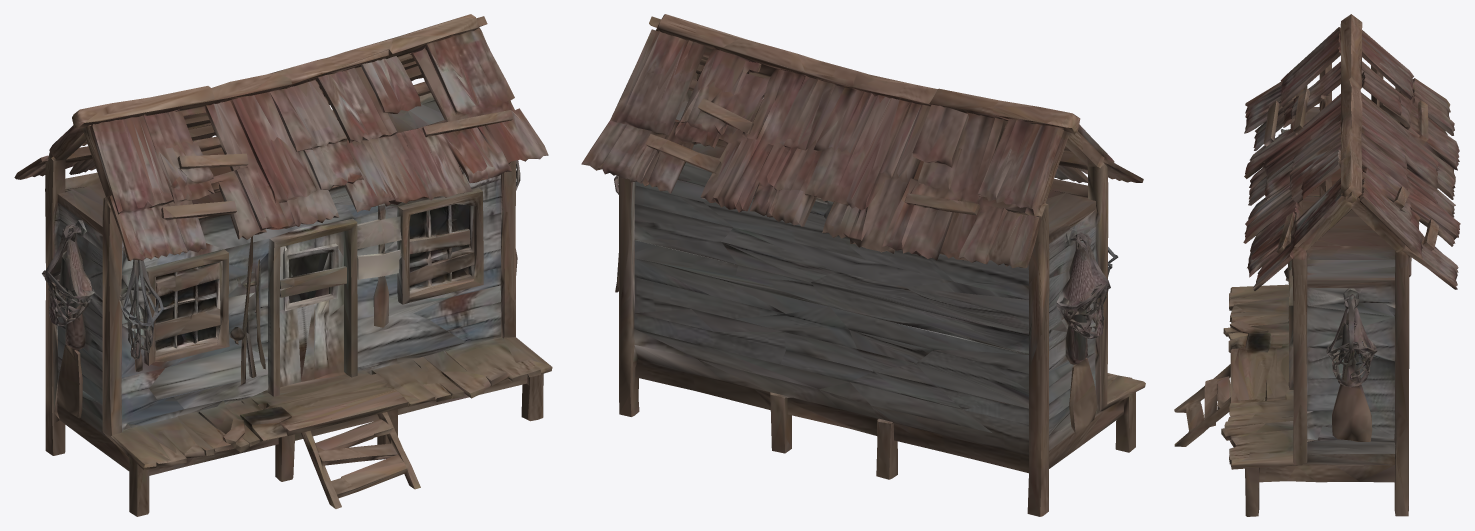
The model's file is shack_wood_idle.glb.
The picture shows the model from 3 angles, left to right: view 1: azimuth 30°, elevation 25°; view 2: azimuth 150°, elevation 25°; view 3: azimuth 270°, elevation 25°; orthographic projection. The views are drawn at different scales.
Visible parts, largest first — view 1: tripo_node_49278618-db0c-49d5-a060-ea10d5e03afe; view 2: tripo_node_49278618-db0c-49d5-a060-ea10d5e03afe; view 3: tripo_node_49278618-db0c-49d5-a060-ea10d5e03afe.
Boxes of the visible parts, x1,y1,x2,y2 form: tripo_node_49278618-db0c-49d5-a060-ea10d5e03afe: [14, 14, 552, 516]; tripo_node_49278618-db0c-49d5-a060-ea10d5e03afe: [581, 14, 1145, 516]; tripo_node_49278618-db0c-49d5-a060-ea10d5e03afe: [1174, 14, 1460, 516].
Size of the model in its own units: 5.99 by 4.45 by 3.53.
Materials: 1 (1 with a texture image).
